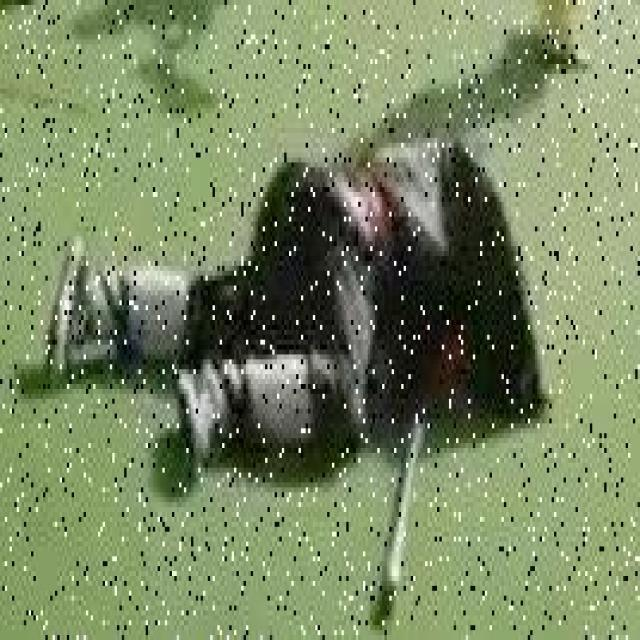fall: (46, 138, 550, 463)
